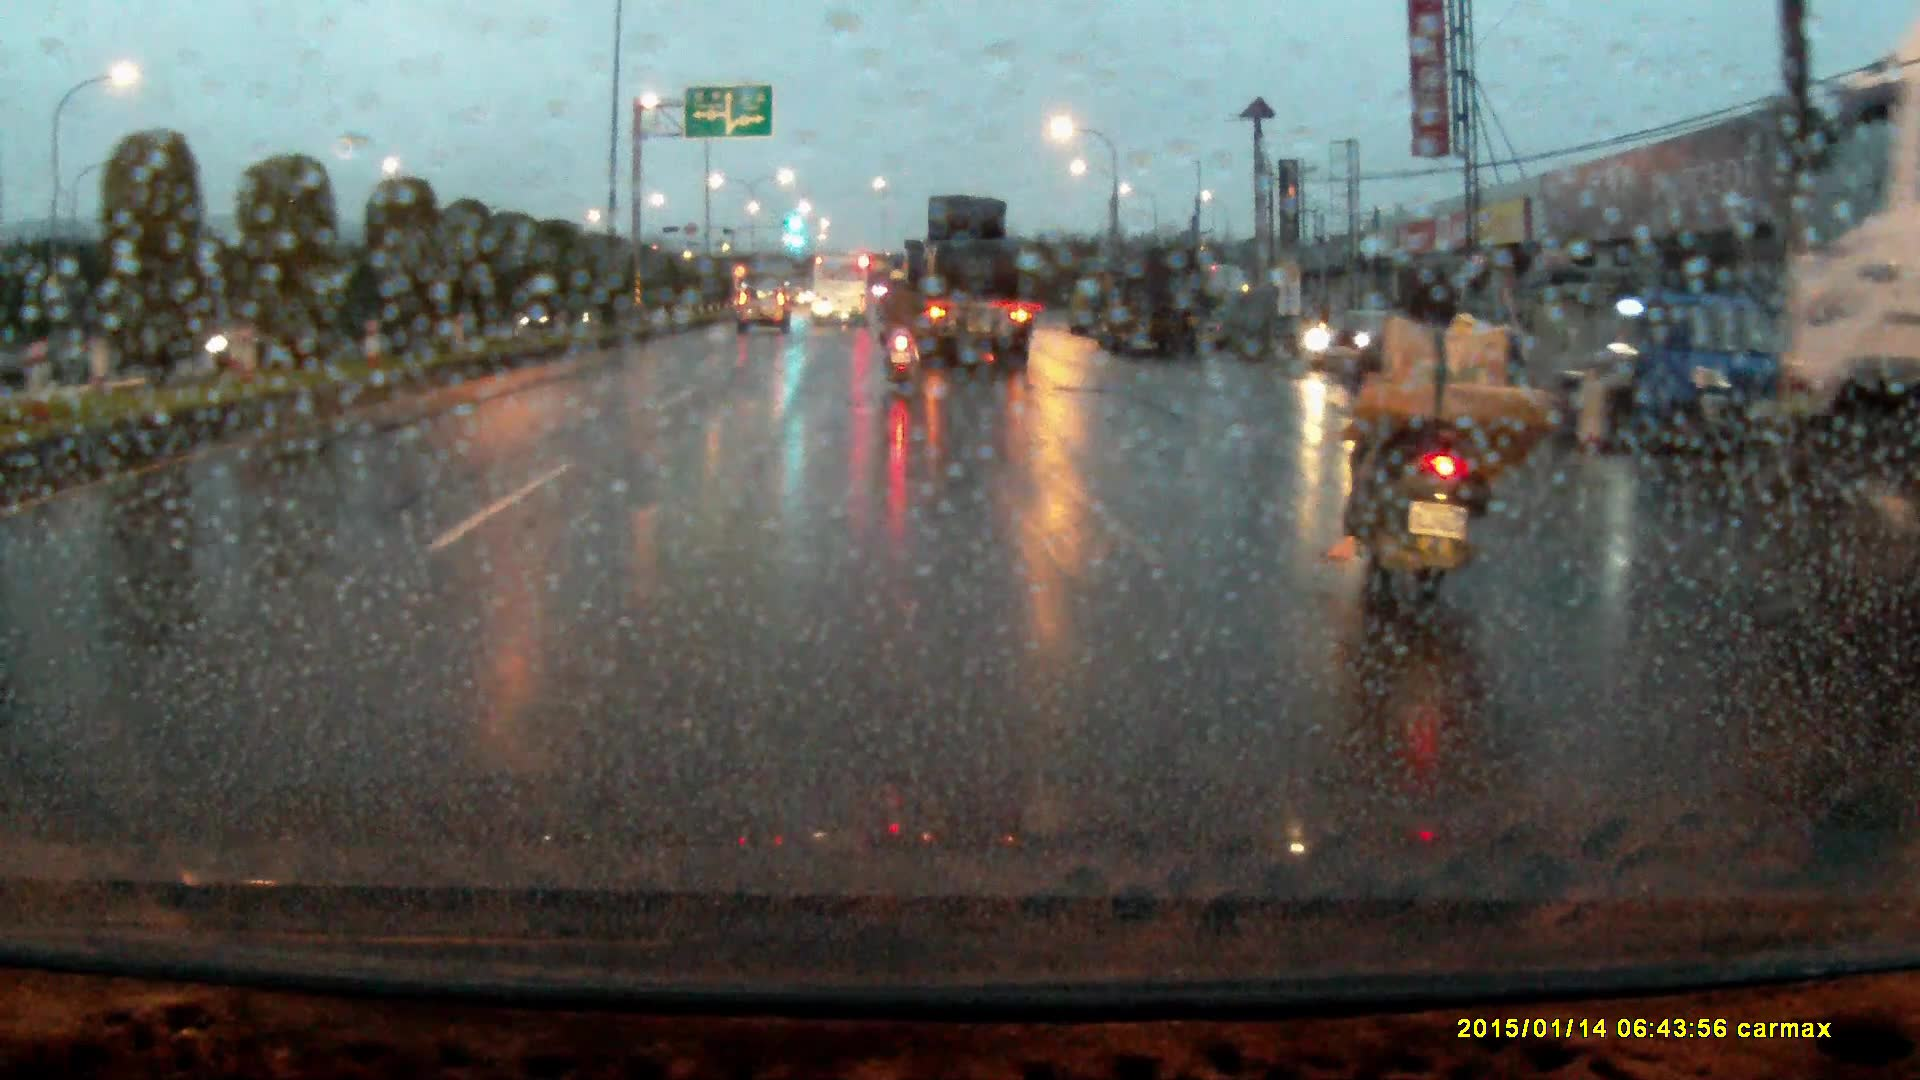rider: (1331, 251, 1561, 651), (877, 266, 929, 383)
vehicle: (1771, 90, 1920, 602), (1553, 286, 1774, 455), (889, 197, 1030, 373), (1106, 252, 1210, 365), (811, 253, 870, 330), (1068, 279, 1116, 338), (737, 290, 792, 339)
